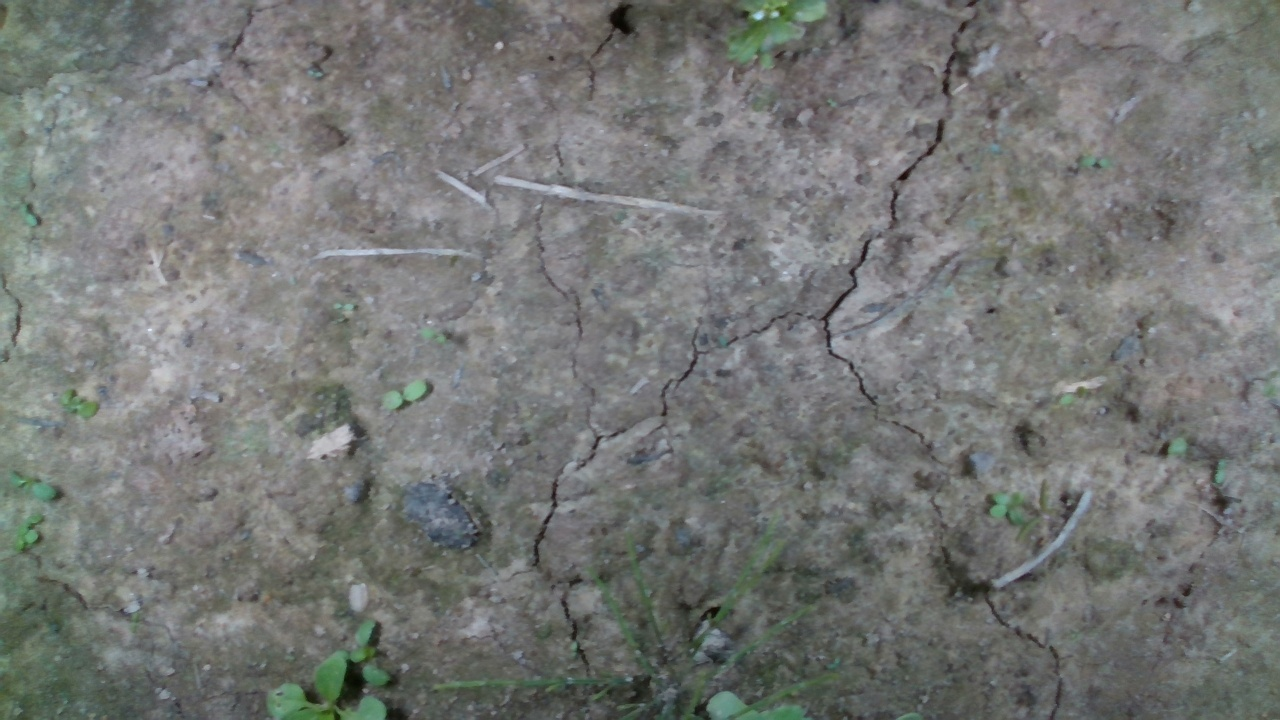weed: (378, 377, 429, 413), (5, 469, 57, 502), (58, 386, 101, 420), (987, 488, 1027, 524), (1076, 154, 1113, 170), (330, 301, 356, 313)
